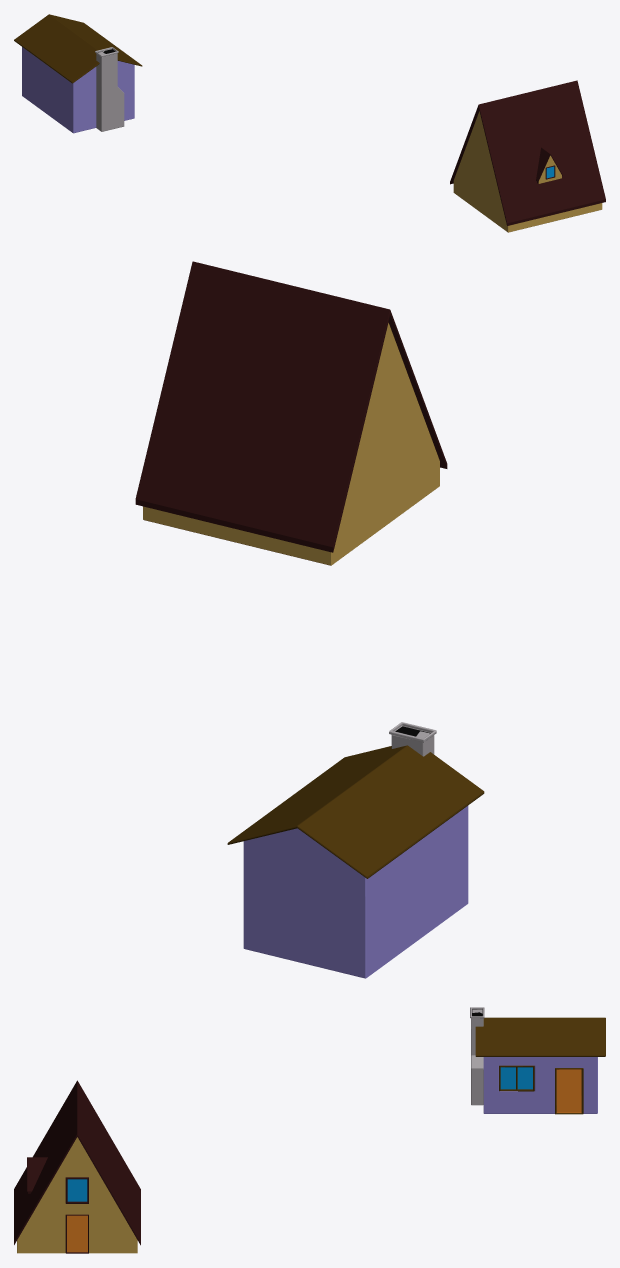
The picture shows the model from 3 angles, top to bottom: view 1: azimuth 30°, elevation 25°; view 2: azimuth 150°, elevation 25°; view 3: azimuth 270°, elevation 25°; orthographic projection. The views are drawn at different scales.
Parts seen in each view (by area): view 1: Cube.001, ev1; view 2: Cube.001, ev1; view 3: Cube.001, ev1.
Part boxes in pixels (box(x1,y1,x2,y2)): Cube.001: box(450, 80, 605, 232); ev1: box(14, 14, 142, 133); Cube.001: box(135, 261, 447, 565); ev1: box(227, 722, 484, 978); Cube.001: box(14, 1080, 140, 1253); ev1: box(470, 1007, 605, 1114).
Bounding box in the file's own units: 540 × 173 × 767.
